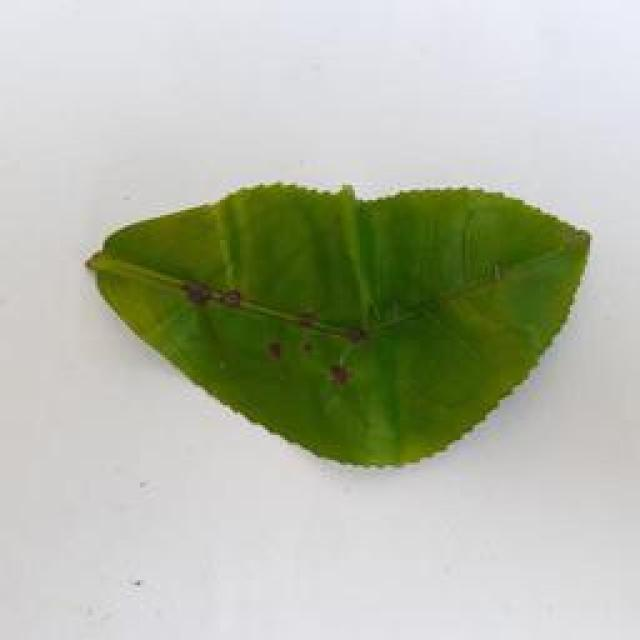Helopeltis: (87, 179, 601, 472)
